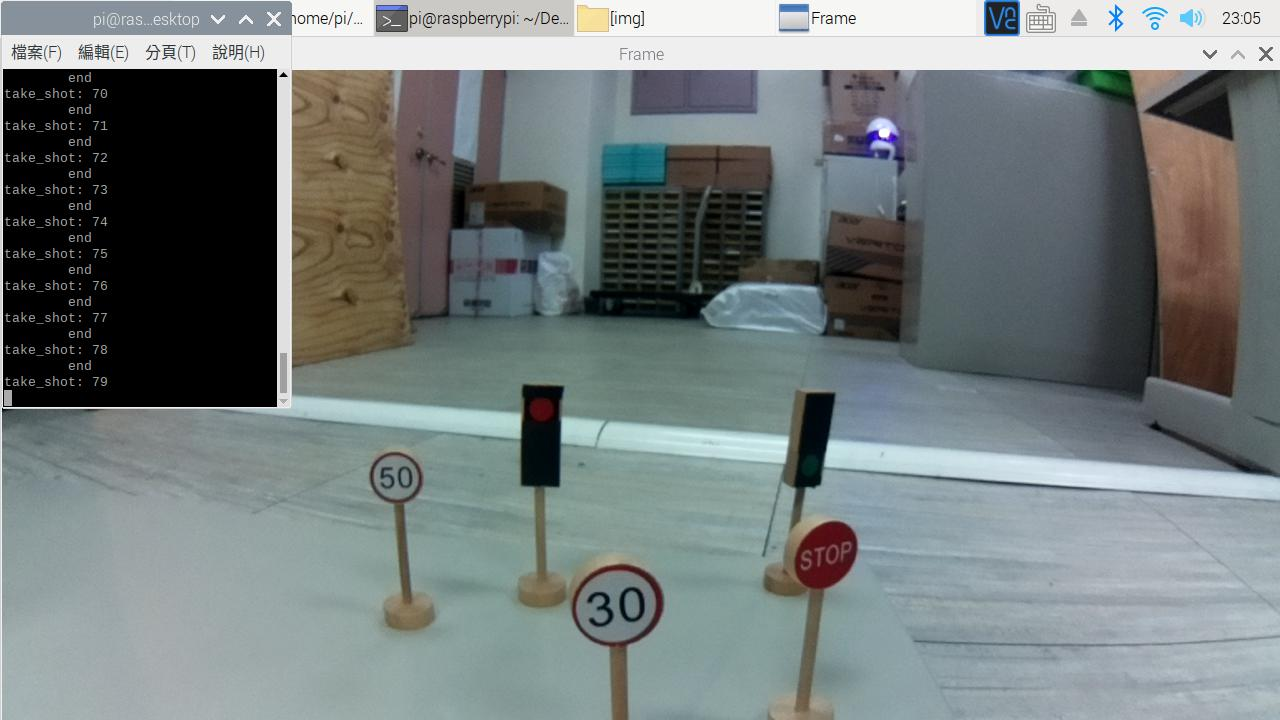Green: (774, 390, 846, 494)
Red: (507, 379, 579, 497)
Speed30: (554, 565, 671, 654)
Speed50: (367, 448, 430, 514)
Stop: (783, 522, 875, 594)
